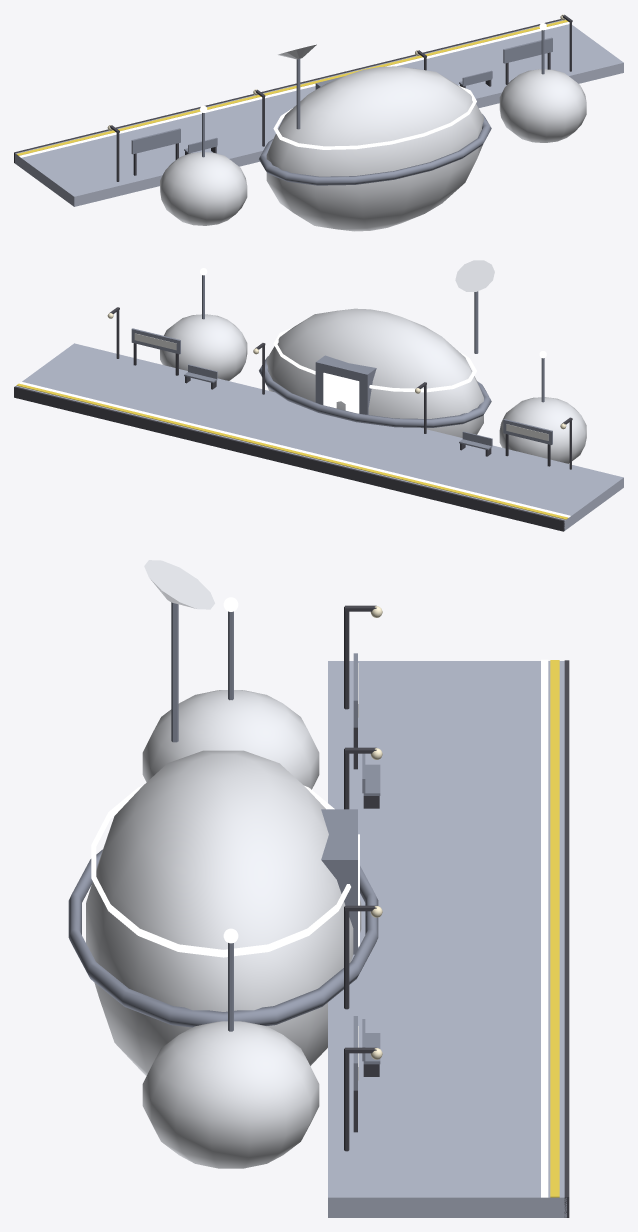
The model's file is Station_space.fbx.
3 renders of one model, top to bottom at view 1: azimuth 30°, elevation 25°; view 2: azimuth 150°, elevation 25°; view 3: azimuth 270°, elevation 25°, orthographic. The views are drawn at different scales.
Parts seen in each view (by area): view 1: Station_space; view 2: Station_space; view 3: Station_space.
Part boxes in pixels (x1,y1,x2,y2): Station_space: (14, 14, 623, 231); Station_space: (14, 260, 623, 531); Station_space: (68, 560, 569, 1217).
Bounding box in the file's own units: 34 × 12.59 × 13.41.
